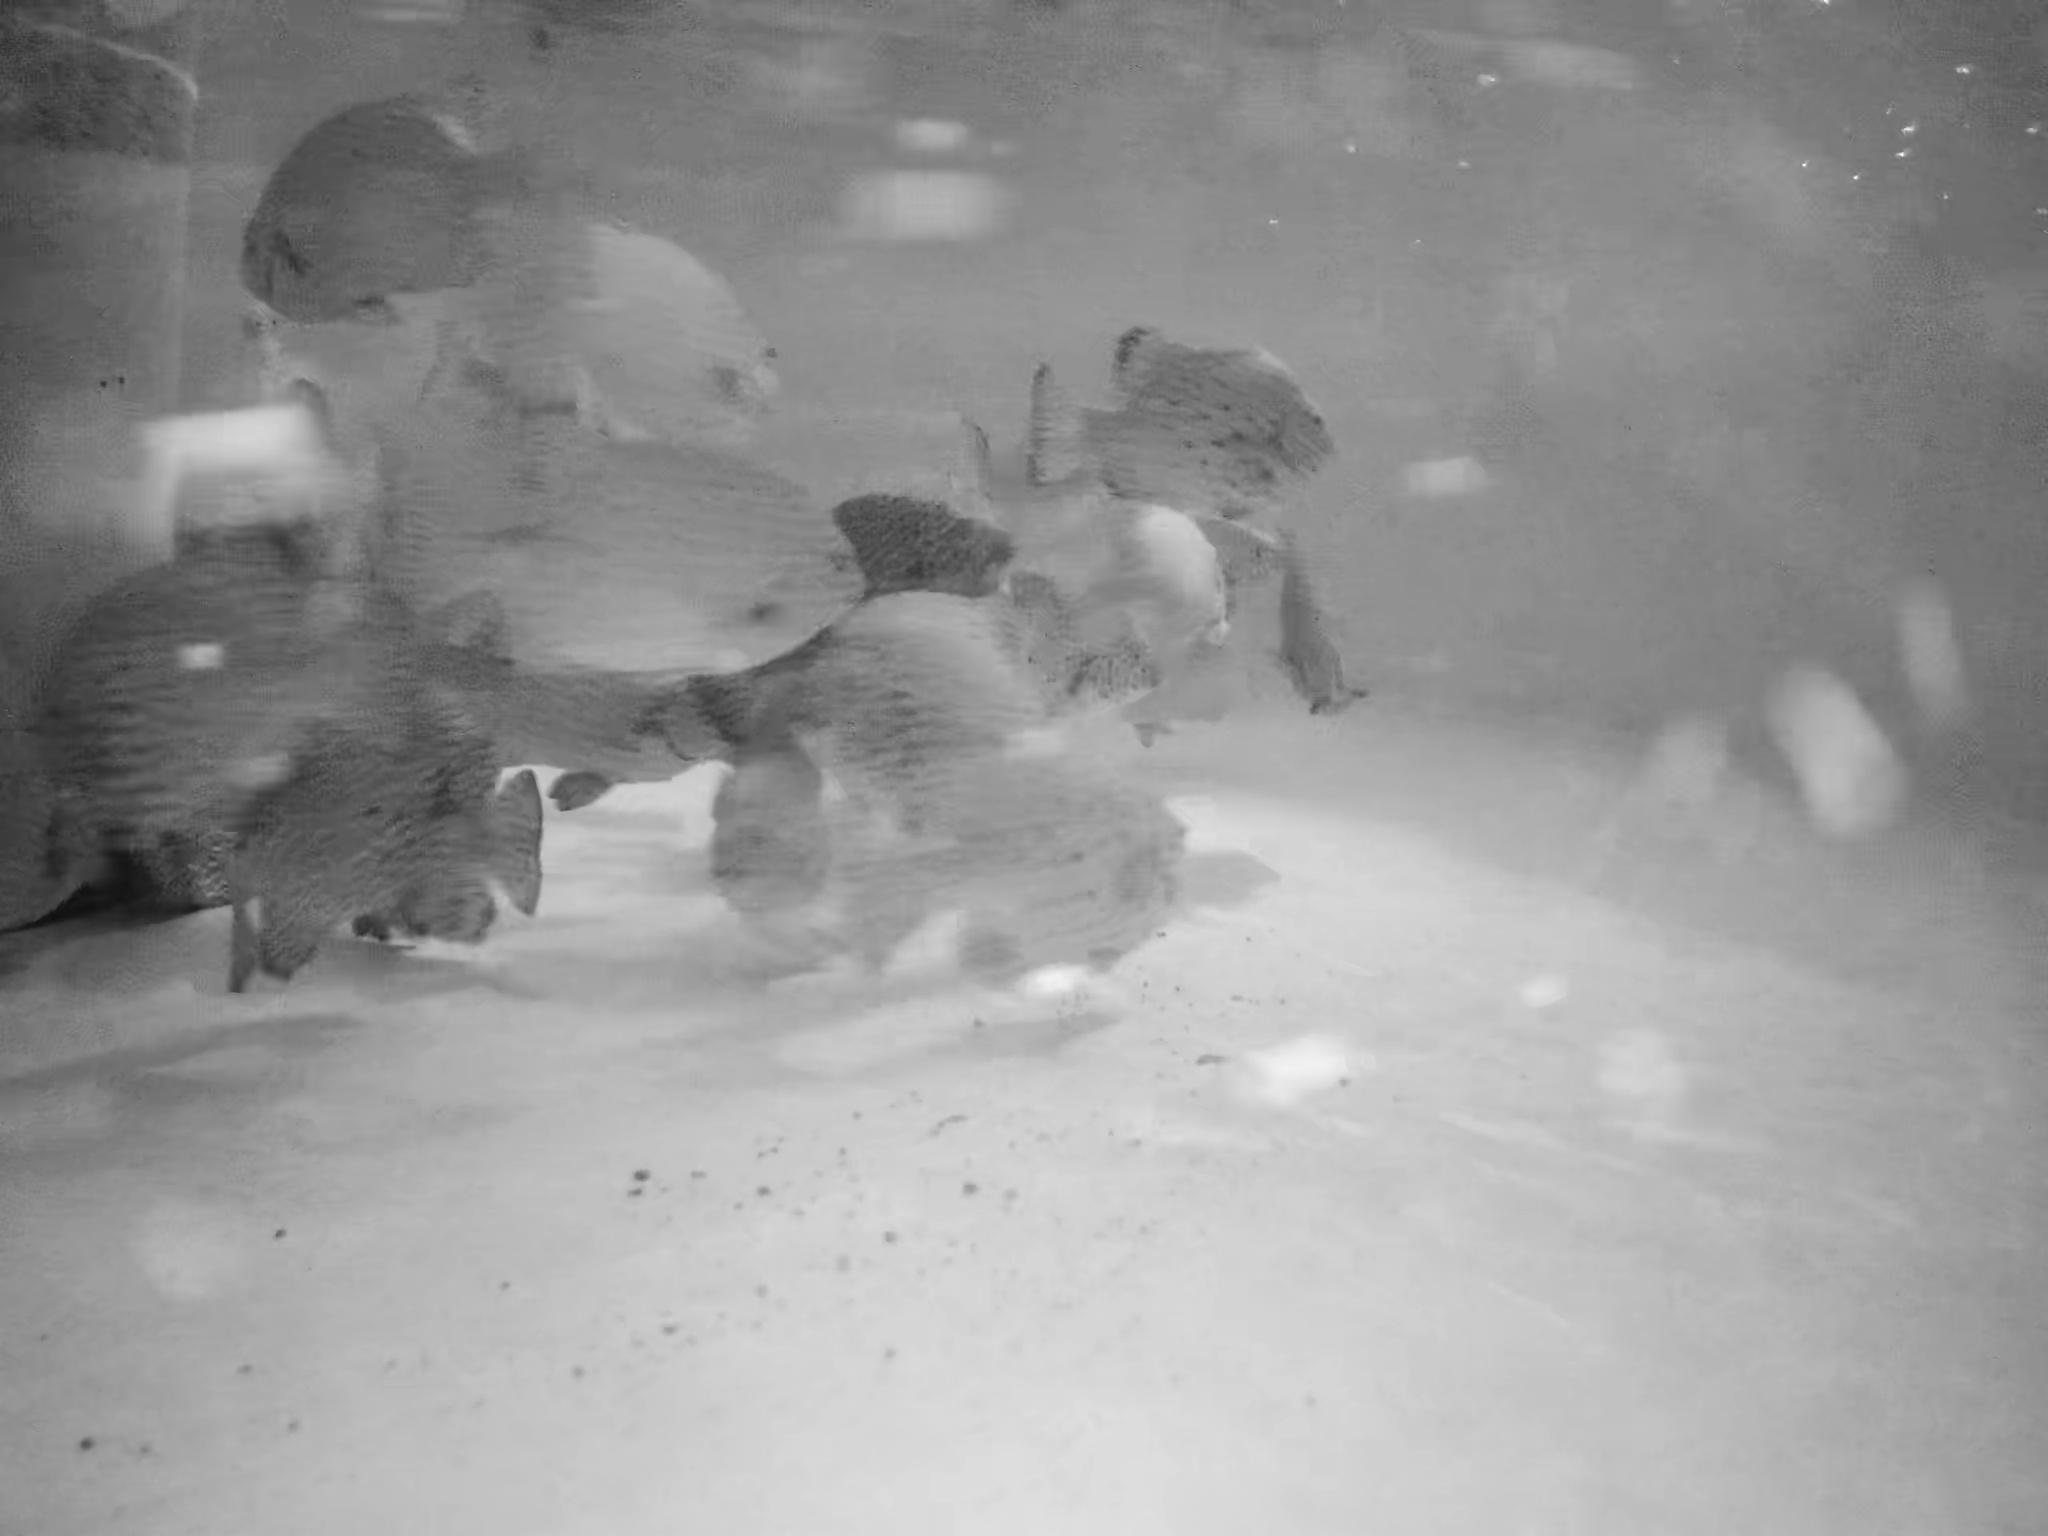fish: (389, 386, 866, 679), (226, 649, 552, 958), (27, 558, 416, 786), (793, 766, 1218, 975), (239, 102, 608, 313), (456, 215, 784, 449), (972, 408, 1235, 679), (1026, 315, 1367, 520), (772, 571, 1127, 757), (689, 729, 850, 928), (1268, 545, 1384, 724)
